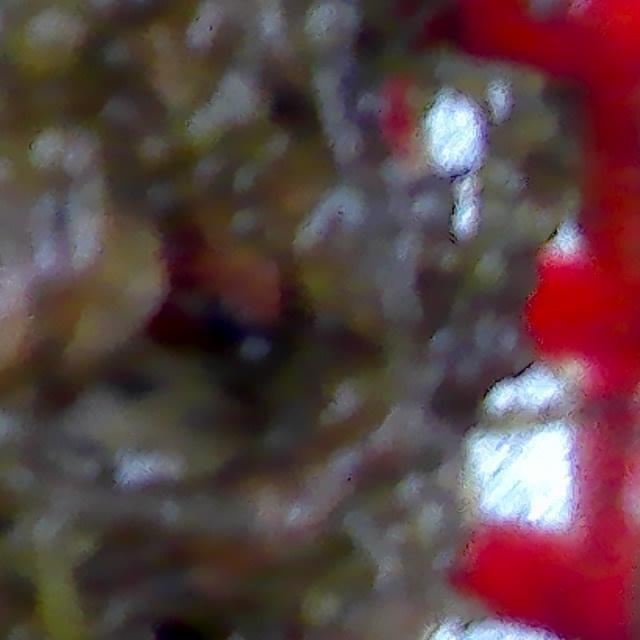SeaGrape: (14, 15, 75, 77), (98, 36, 153, 86)
